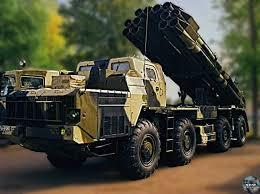MIL_SAM_TEL: (9, 1, 248, 179)
